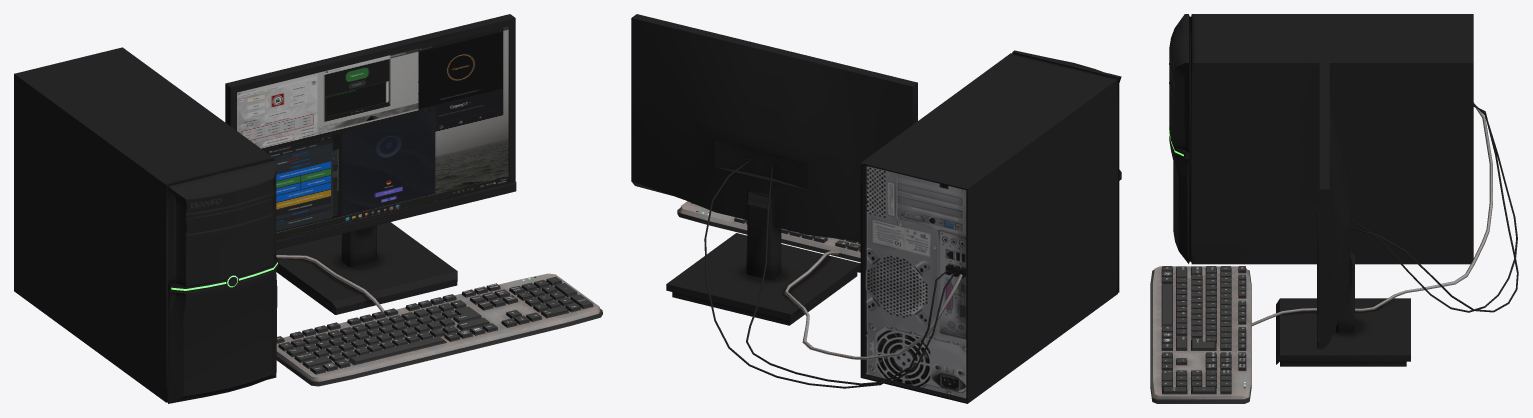
The model's file is personal_computer.glb.
The picture shows the model from 3 angles, left to right: view 1: azimuth 30°, elevation 25°; view 2: azimuth 150°, elevation 25°; view 3: azimuth 270°, elevation 25°; orthographic projection. The views are drawn at different scales.
Parts seen in each view (by area): view 1: Cube_PC_0, Cube_Screen_0, Cube_Keyboard_0; view 2: Cube_PC_0, Cube_Keyboard_0; view 3: Cube_PC_0, Cube_Keyboard_0.
Boxes of the visible parts, x1,y1,x2,y2 form: Cube_PC_0: (14,14,516,403); Cube_Screen_0: (237,26,508,238); Cube_Keyboard_0: (276,255,602,386); Cube_PC_0: (631,14,1121,403); Cube_Keyboard_0: (677,201,962,359); Cube_PC_0: (1169,14,1518,366); Cube_Keyboard_0: (1150,102,1492,403).
Size of the model in its own units: 1.36 by 0.7227 by 1.12.
Materials: 4 (3 with a texture image).
